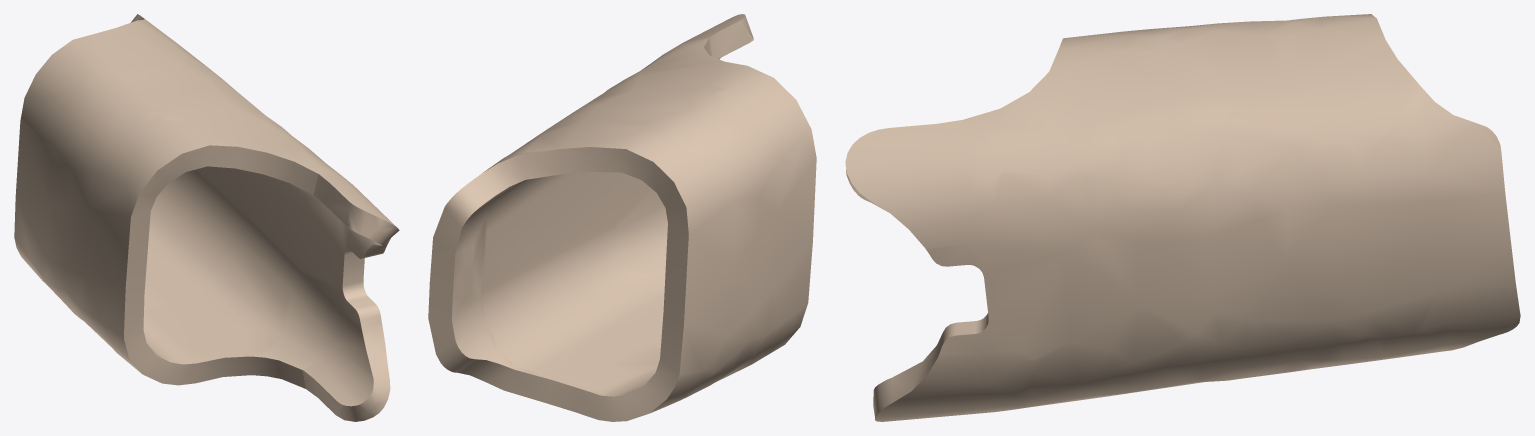
Rendered from l_hand_P_R_1.obj.
3 renders of one model, left to right at view 1: azimuth 30°, elevation 25°; view 2: azimuth 150°, elevation 25°; view 3: azimuth 270°, elevation 25°, orthographic. The views are drawn at different scales.
Size of the model in its own units: 19.66 by 24.88 by 44.18.
